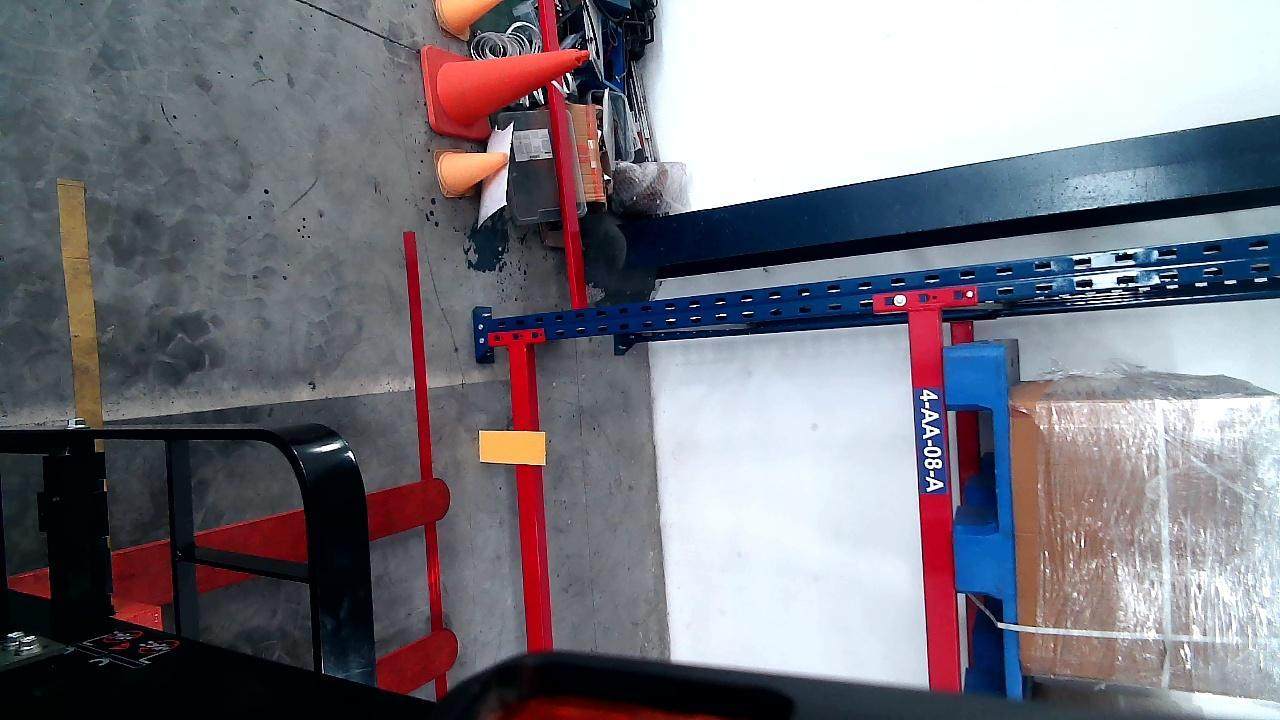red_line: (403, 224, 449, 703)
yellow_line: (59, 171, 106, 430)
